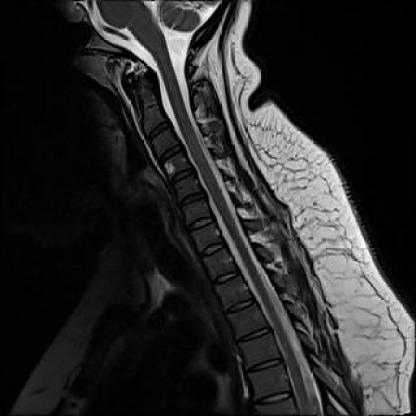Annular Disc Relaxationrotation: (175, 191, 212, 208), (166, 169, 199, 181)
